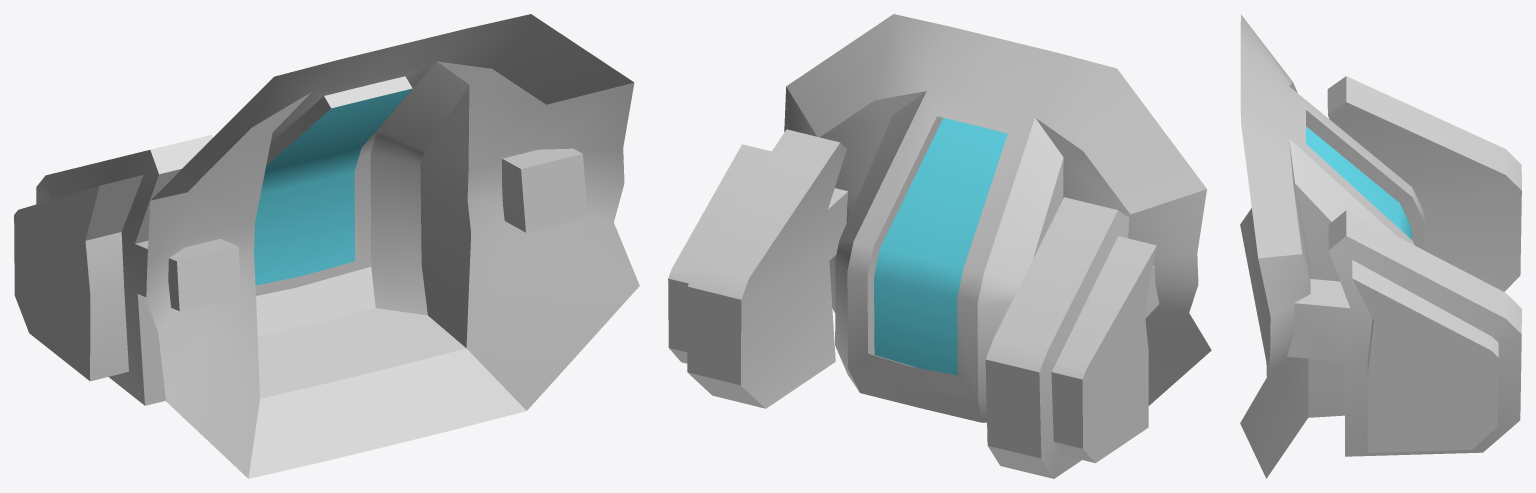
Rendered from Mod_BackPlate_Queen3.FBX.
3 views of the same model, side by side, from view 1: azimuth 30°, elevation 25°; view 2: azimuth 150°, elevation 25°; view 3: azimuth 270°, elevation 25° (orthographic). The views are drawn at different scales.
Parts seen in each view (by area): view 1: Mod_BackPlate_Queen3; view 2: Mod_BackPlate_Queen3; view 3: Mod_BackPlate_Queen3.
Part boxes in pixels (x1=…): Mod_BackPlate_Queen3: x1=14, y1=14, x2=639, y2=478; Mod_BackPlate_Queen3: x1=668, y1=14, x2=1211, y2=478; Mod_BackPlate_Queen3: x1=1240, y1=14, x2=1521, y2=478.
Size of the model in its own units: 326 by 266 by 192.
